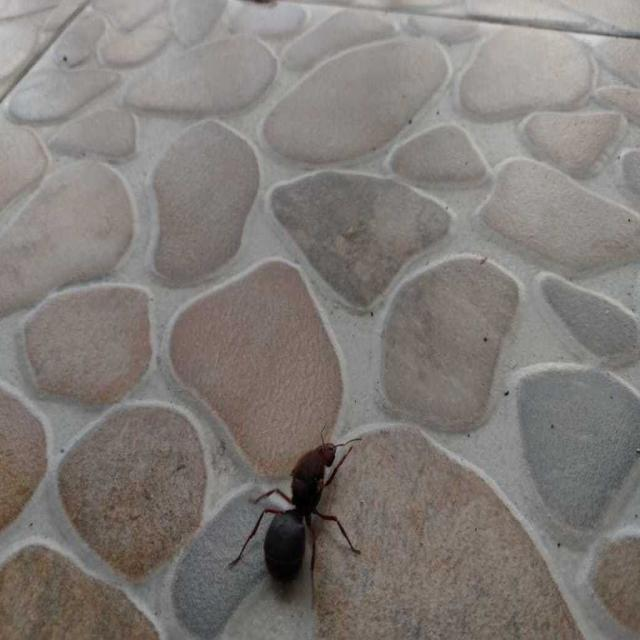Alive-Female-Dealate: (228, 421, 362, 609)
